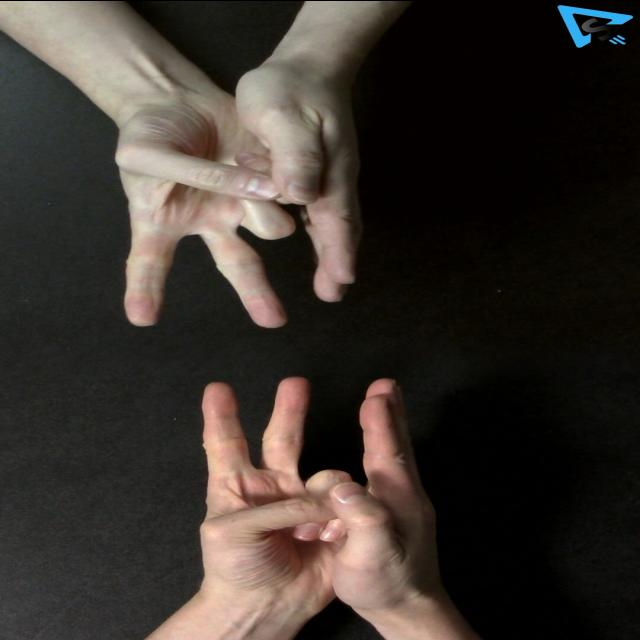Scissors: (115, 82, 308, 326), (195, 374, 358, 608)
